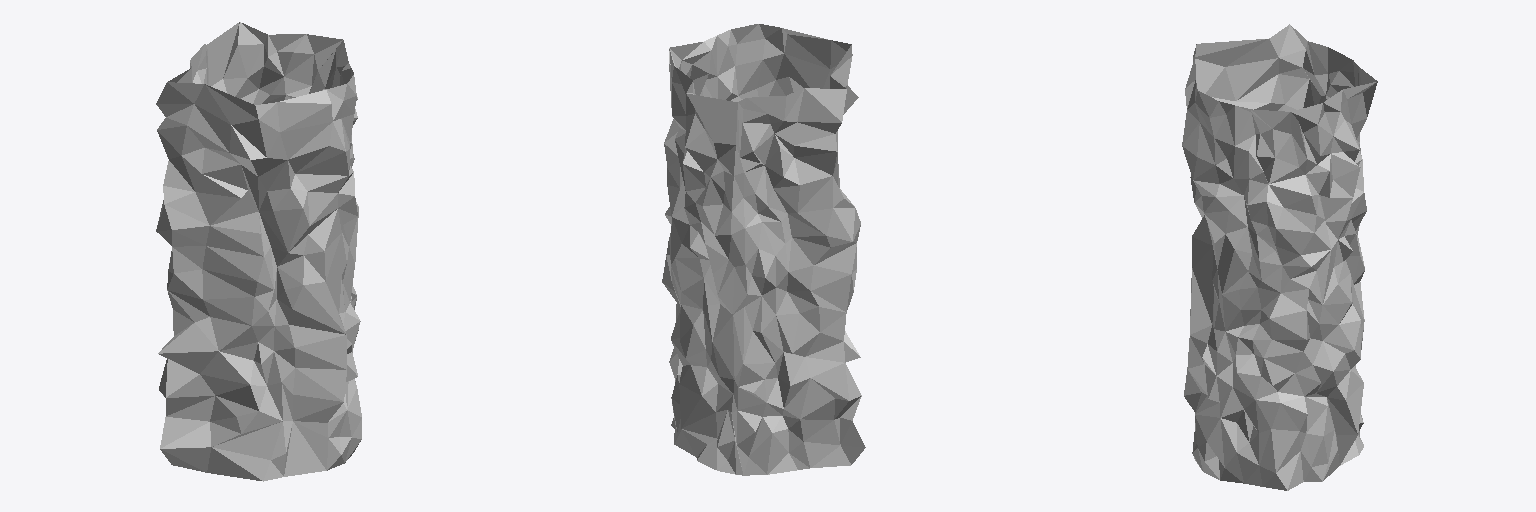
Rendered from Pared enrollada.obj.
The picture shows the model from 3 angles: view 1: azimuth 30°, elevation 25°; view 2: azimuth 150°, elevation 25°; view 3: azimuth 270°, elevation 25°; orthographic projection.
Parts seen in each view (by area): view 1: Plane.001; view 2: Plane.001; view 3: Plane.001.
Boxes of the visible parts, <box> form: Plane.001: <box>156,22,361,481</box>; Plane.001: <box>662,24,865,475</box>; Plane.001: <box>1182,24,1377,490</box>.
Size of the model in its own units: 107 by 202 by 93.7.